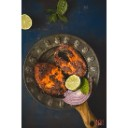seerfish: (34, 62, 66, 96), (54, 45, 88, 76)
